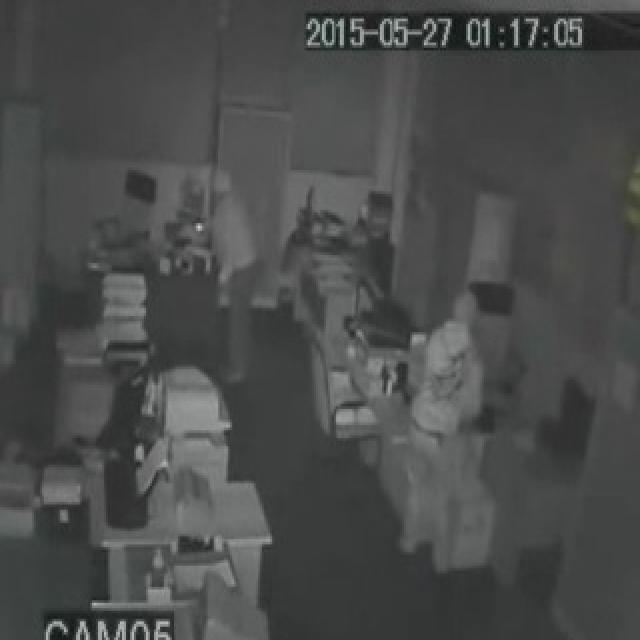thief: (413, 299, 484, 455), (209, 176, 260, 265)
